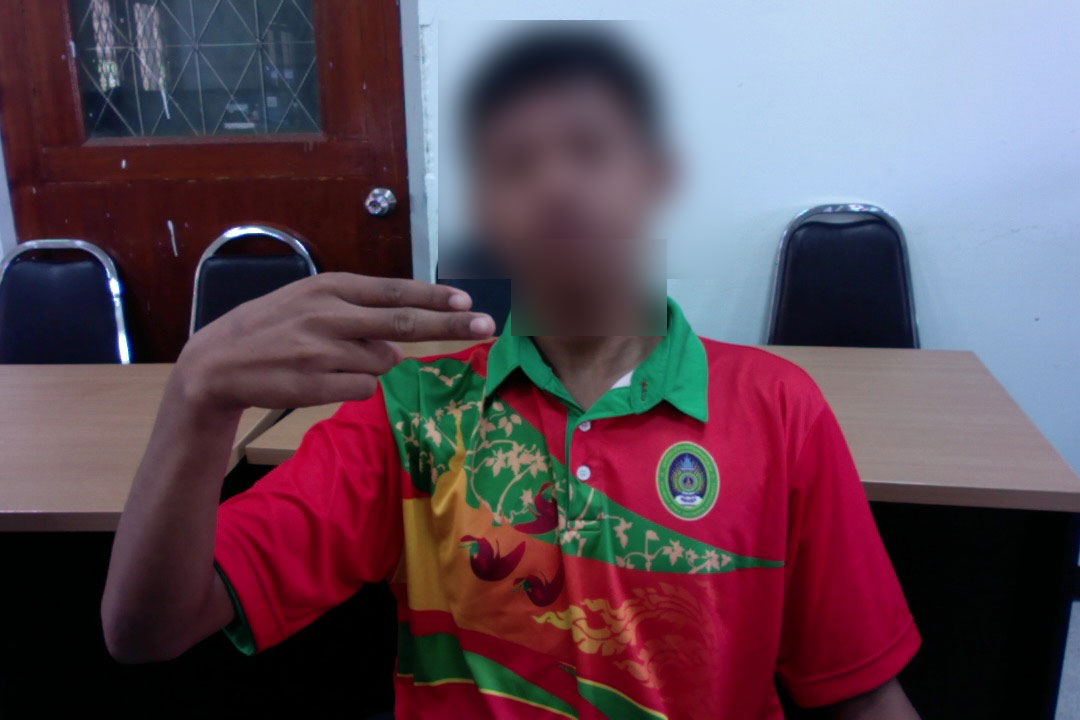hor: (181, 267, 501, 411)
